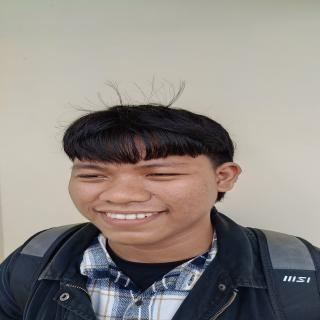Senang: (60, 134, 237, 252)
